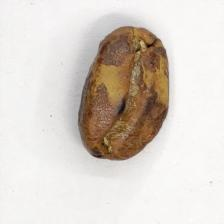NG: (80, 27, 168, 161)
